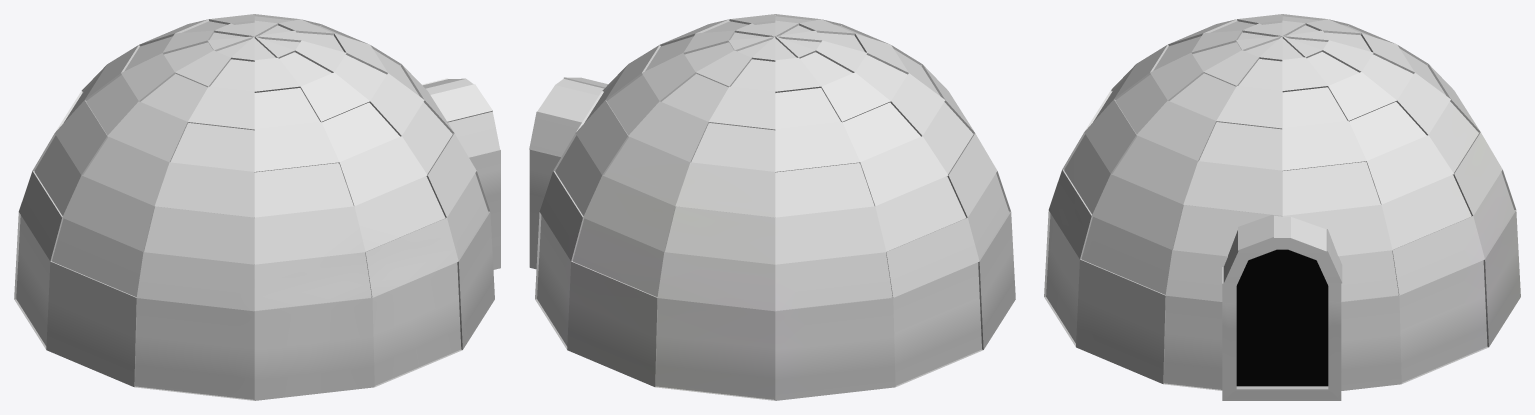
The model's file is Iglu.glb.
3 renders of one model, left to right at view 1: azimuth 30°, elevation 25°; view 2: azimuth 150°, elevation 25°; view 3: azimuth 270°, elevation 25°, orthographic.
Visible parts, largest first — view 1: Iglu; view 2: Iglu; view 3: Iglu.
Part boxes in pixels (x1=…): Iglu: x1=14, y1=14, x2=500, y2=400; Iglu: x1=529, y1=14, x2=1015, y2=400; Iglu: x1=1044, y1=14, x2=1520, y2=400.
Bounding box in the file's own units: 3.93 × 2.33 × 3.86.
1 material, 1 textured.
